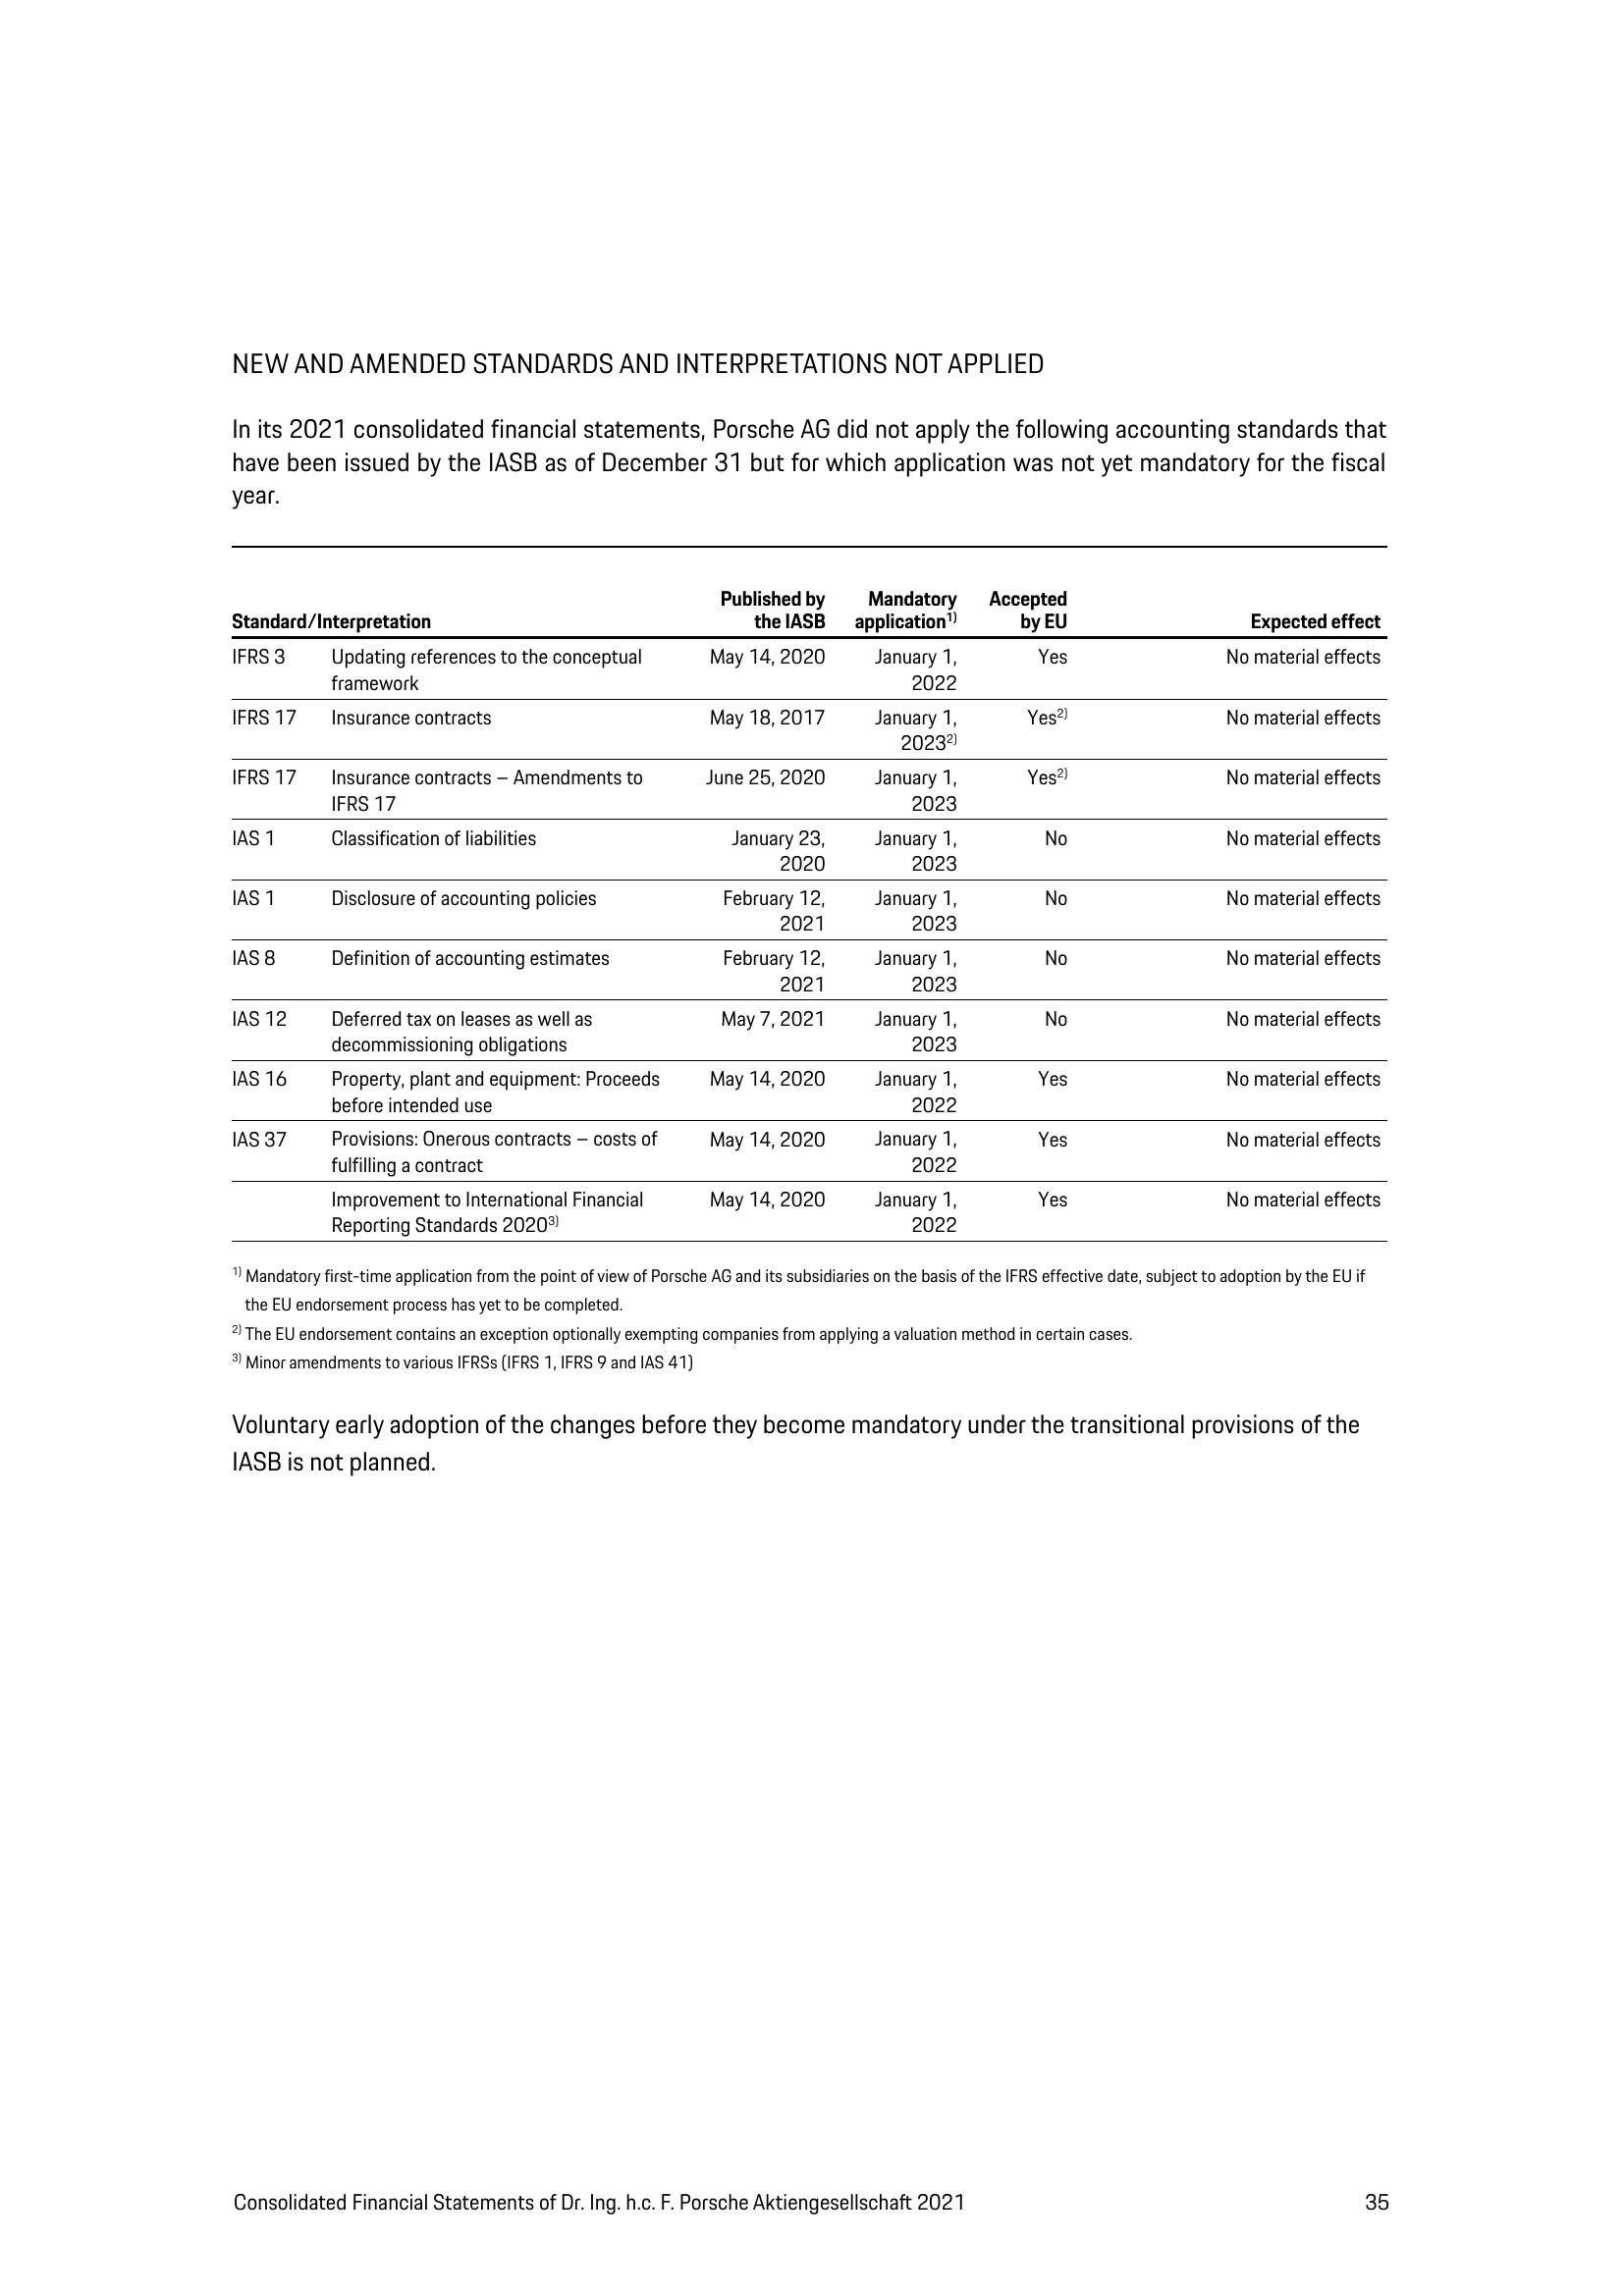Footer: (5, 2143, 1624, 2296)
Header: (0, 0, 1624, 197)
Table: (186, 546, 1425, 1235)
